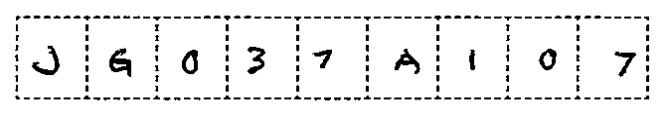0: (174, 43, 208, 81), (532, 42, 562, 77)
1: (458, 45, 489, 77)
3: (241, 40, 271, 83)
7: (607, 46, 640, 82), (310, 44, 340, 76)
A: (388, 42, 425, 80)
G: (103, 44, 139, 84)
J: (26, 40, 66, 80)
